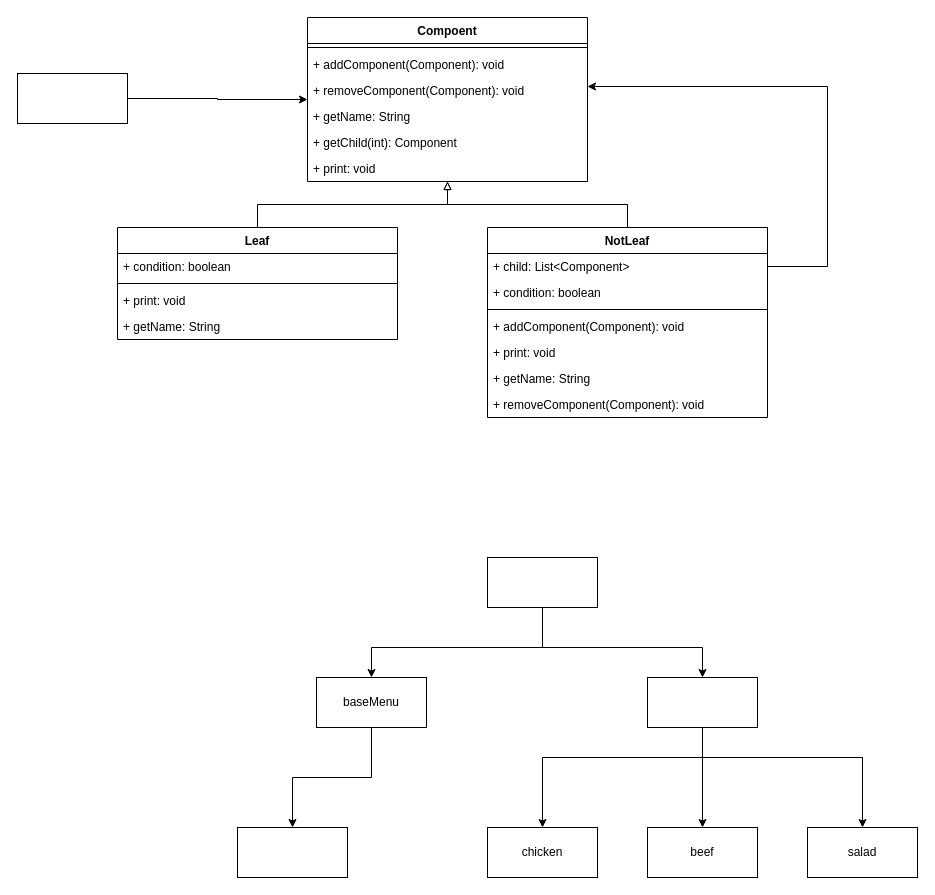
Some shapes in this 935 by 895 pixel diagram are drawn without their labels. Each missing label, with the centre of its shape:
"client" goes at pixel 72 98.
"MainMenu" goes at pixel 702 702.
"Menu" goes at pixel 542 582.
"soup" goes at pixel 292 852.
